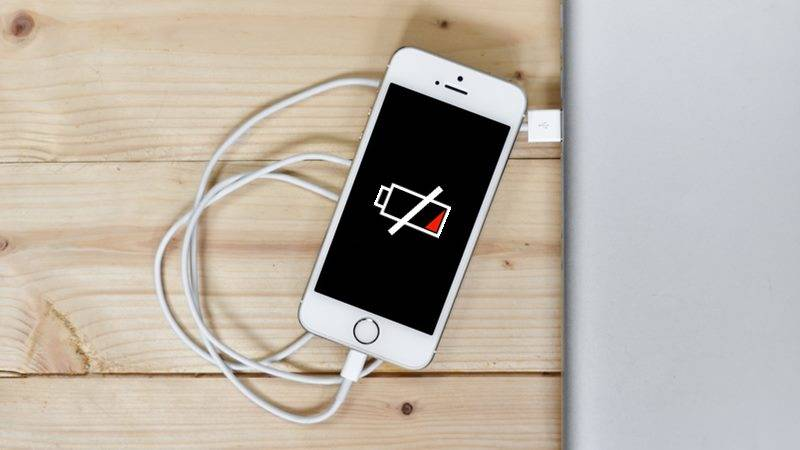Phone: (295, 43, 529, 372)
